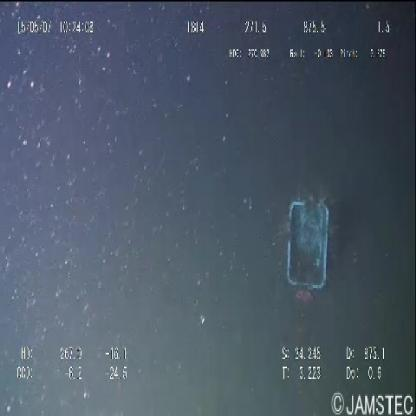Rác: (280, 179, 334, 304)
